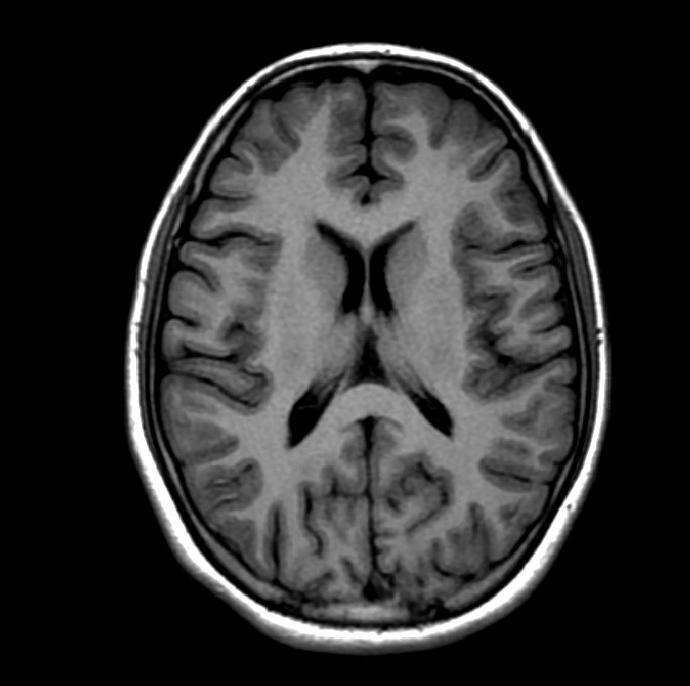Normal_Brain: (1, 1, 690, 686)
